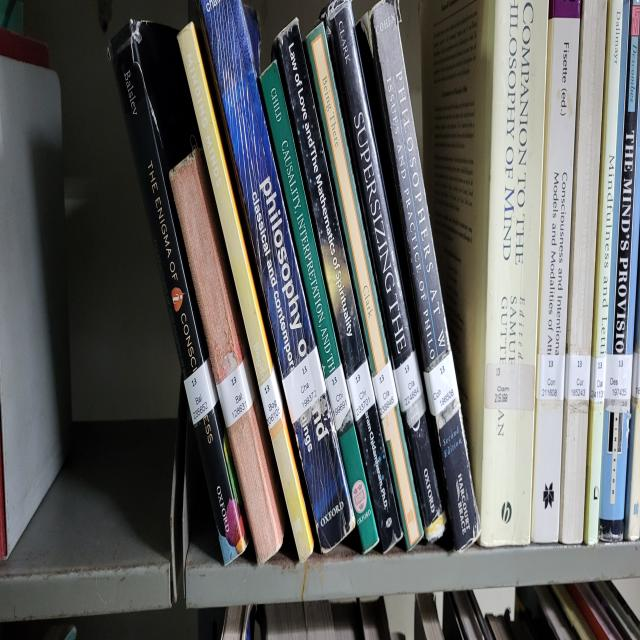Book: (201, 0, 350, 552), (109, 22, 249, 563), (179, 22, 314, 563), (422, 0, 549, 547), (278, 24, 402, 552), (362, 3, 480, 549), (326, 11, 445, 541), (306, 24, 424, 549), (261, 62, 379, 552), (170, 149, 285, 563), (531, 0, 580, 544), (559, 0, 608, 544), (599, 0, 640, 538), (584, 0, 624, 544)
Label: (282, 346, 326, 422), (216, 357, 255, 427), (485, 363, 535, 411), (424, 349, 459, 417), (184, 360, 218, 425), (346, 360, 375, 422), (394, 352, 422, 411), (325, 365, 350, 430), (372, 360, 398, 419), (260, 368, 282, 430), (538, 354, 565, 400), (565, 354, 591, 400), (590, 357, 606, 403)
